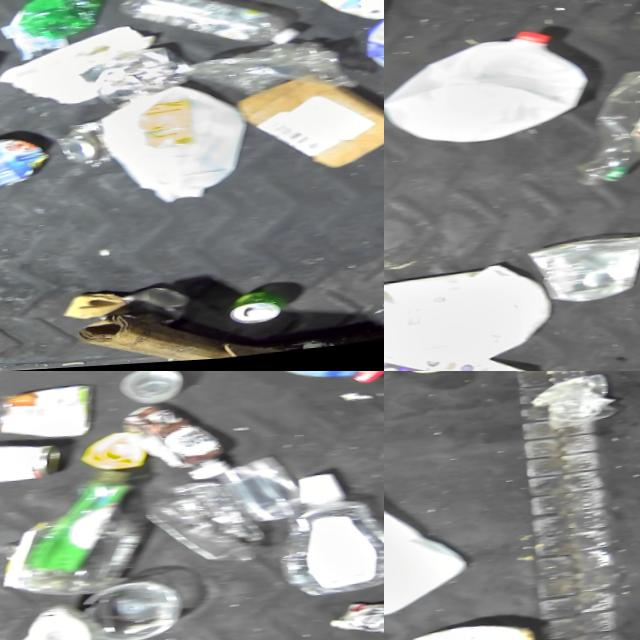can: (0, 382, 100, 448), (95, 286, 193, 336), (0, 132, 52, 201), (55, 120, 119, 173), (0, 438, 64, 489), (225, 293, 287, 330), (324, 602, 384, 640)
milk_jug: (384, 29, 590, 155), (96, 81, 256, 214), (384, 262, 553, 371), (384, 469, 473, 636)
plastic_bottle: (278, 468, 384, 606), (109, 0, 308, 66), (568, 68, 640, 194)
